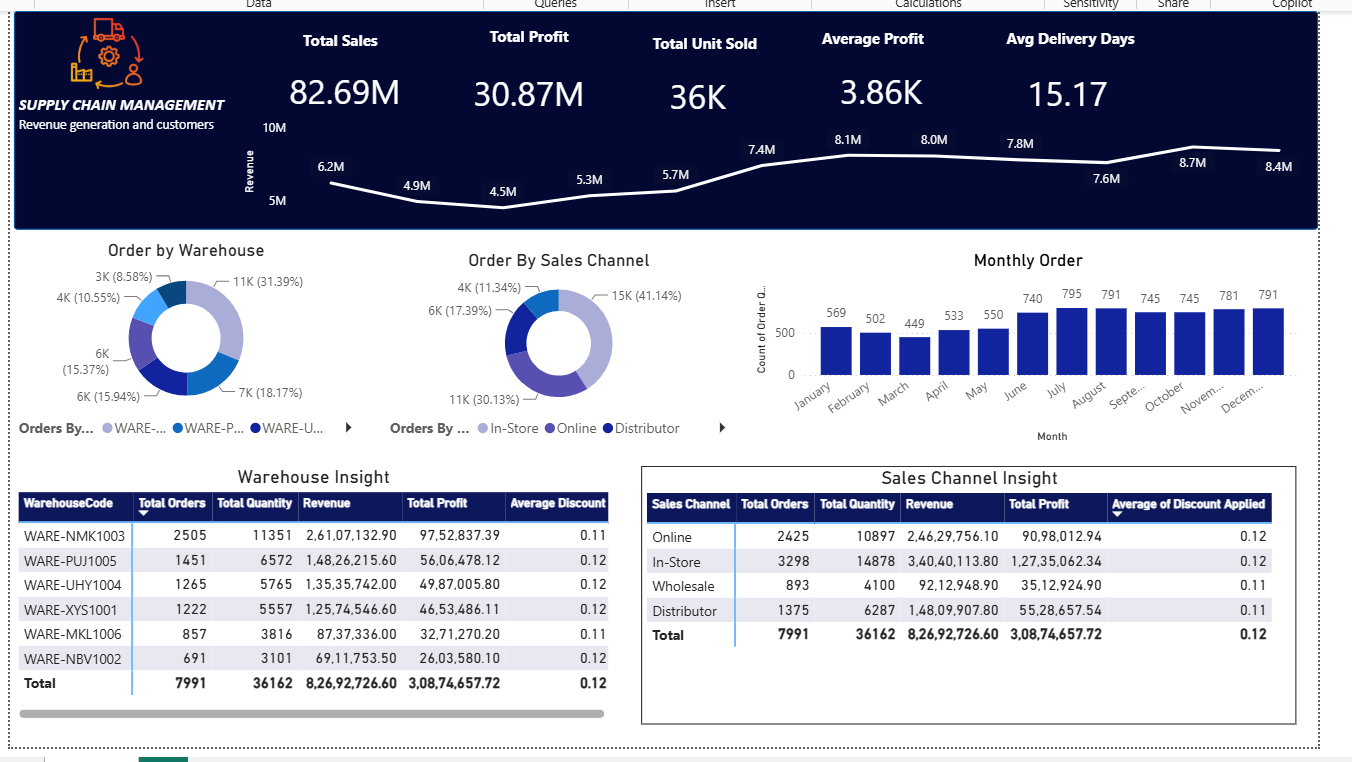

This screenshot's page, from the dashboard's own definition file:
{"tool":"powerbi","page":{"name":"Page 1","canvas":[1280,720],"ordinal":0},"visuals":[{"type":"image","box":[28.8,28.8,124.9,94.7],"z":0},{"type":"shape","box":[4.1,0,1276.2,214.1],"z":1000},{"type":"textbox","box":[4.1,76.8,230.5,46.7],"z":2000},{"type":"image","box":[37,0,116.6,83.7],"z":3000},{"type":"card","fields":{"Values":["Sum(main.Revenue)"]},"box":[248.4,55.2,159.2,46.7],"z":4000},{"type":"card","fields":{"Values":["Sum(main.Profit)"]},"box":[425.4,60.4,164.7,41.2],"z":5000},{"type":"card","fields":{"Values":["Sum(main.Order Quantity)"]},"box":[607.9,61.7,130.4,45.3],"z":6000},{"type":"card","fields":{"Values":["Avg(main.Profit)"]},"box":[772.6,57.6,159.2,41.2],"z":7000},{"type":"card","fields":{"Values":["Avg(main.Ship Date)"]},"box":[955.1,60.4,159.2,41.2],"z":8000},{"type":"textbox","box":[248.4,13.7,149.6,34.3],"z":9000},{"type":"textbox","box":[425.4,9.6,164.7,45.3],"z":10000},{"type":"lineChart","fields":{"Y":["Sum(main.Revenue)"],"Category":["main.OrderDate.Variation.Date Hierarchy.Month"]},"box":[223.7,100.2,1056.6,105.7],"z":11000},{"type":"columnChart","title":"Monthly Order ","fields":{"Y":["CountNonNull(main.Order Quantity)"],"Category":["main.OrderDate.Variation.Date Hierarchy.Month"]},"box":[724.5,233.3,542,193.5],"z":12000},{"type":"donutChart","title":"Order By Sales Channel","fields":{"Y":["Sum(main.Order Quantity)"],"Category":["main.Sales Channel"]},"box":[366.4,233.3,340.3,193.5],"z":13000},{"type":"donutChart","title":" Order by Warehouse","fields":{"Y":["Sum(main.Order Quantity)"],"Category":["main.WarehouseCode"]},"box":[4.1,223.7,337.6,203.1],"z":14000},{"type":"pivotTable","title":"Warehouse Insight","fields":{"Rows":["main.WarehouseCode"],"Values":["Count(main.OrderNumber)","Sum(main.Order Quantity)","Sum(main.Revenue)","Sum(main.Profit)","Avg(main.Discount Applied)"]},"box":[3.7,445.1,587,251.9],"z":15000},{"type":"textbox","box":[607.9,16.5,144.1,41.2],"z":17000},{"type":"textbox","box":[772.6,11,142.7,39.8],"z":18000},{"type":"textbox","box":[955.1,11,164.7,39.8],"z":19000},{"type":"pivotTable","title":"Sales Channel Insight","fields":{"Rows":["main.Sales Channel"],"Values":["Count(main.OrderNumber)","Sum(main.Order Quantity)","Sum(main.Revenue)","Sum(main.Profit)","Avg(main.Discount Applied)"]},"box":[617.5,444.6,640.8,252.5],"z":20000}]}

Visuals, with their boxes on the page's 1280x720 design canvas (x1, y1, x2, y2). These are canvas units, not pixel positions in the 1352x762 screenshot, which may show the page scaled, cropped or inside an application window:
image: [x1=29, y1=29, x2=154, y2=124]
shape: [x1=4, y1=0, x2=1280, y2=214]
textbox: [x1=4, y1=77, x2=235, y2=124]
image: [x1=37, y1=0, x2=154, y2=84]
card - Sum(main.Revenue): [x1=248, y1=55, x2=408, y2=102]
card - Sum(main.Profit): [x1=425, y1=60, x2=590, y2=102]
card - Sum(main.Order Quantity): [x1=608, y1=62, x2=738, y2=107]
card - Avg(main.Profit): [x1=773, y1=58, x2=932, y2=99]
card - Avg(main.Ship Date): [x1=955, y1=60, x2=1114, y2=102]
textbox: [x1=248, y1=14, x2=398, y2=48]
textbox: [x1=425, y1=10, x2=590, y2=55]
lineChart - Sum(main.Revenue) x main.OrderDate.Variation.Date Hierarchy.Month: [x1=224, y1=100, x2=1280, y2=206]
"Monthly Order " columnChart: [x1=724, y1=233, x2=1266, y2=427]
"Order By Sales Channel" donutChart: [x1=366, y1=233, x2=707, y2=427]
" Order by Warehouse" donutChart: [x1=4, y1=224, x2=342, y2=427]
"Warehouse Insight" pivotTable: [x1=4, y1=445, x2=591, y2=697]
textbox: [x1=608, y1=16, x2=752, y2=58]
textbox: [x1=773, y1=11, x2=915, y2=51]
textbox: [x1=955, y1=11, x2=1120, y2=51]
"Sales Channel Insight" pivotTable: [x1=618, y1=445, x2=1258, y2=697]
